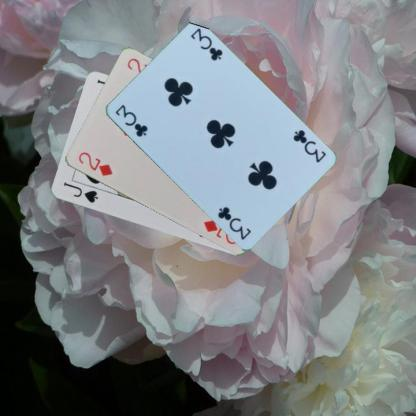2d: (75, 149, 114, 178)
3c: (112, 101, 149, 138), (290, 127, 327, 164)
Js: (61, 179, 99, 205)
